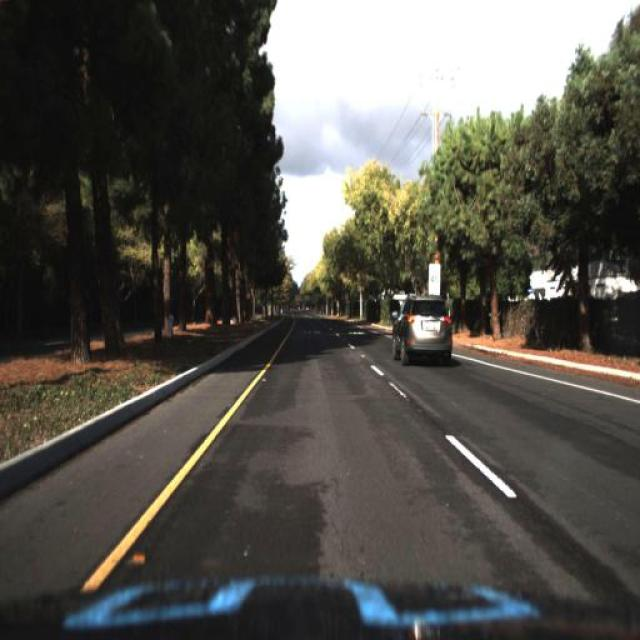car: (392, 295, 452, 369)
